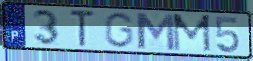3: (31, 8, 61, 46)
5: (215, 15, 242, 54)
G: (103, 11, 136, 49)
M: (133, 11, 177, 52), (171, 13, 213, 53)
T: (68, 9, 97, 49)
